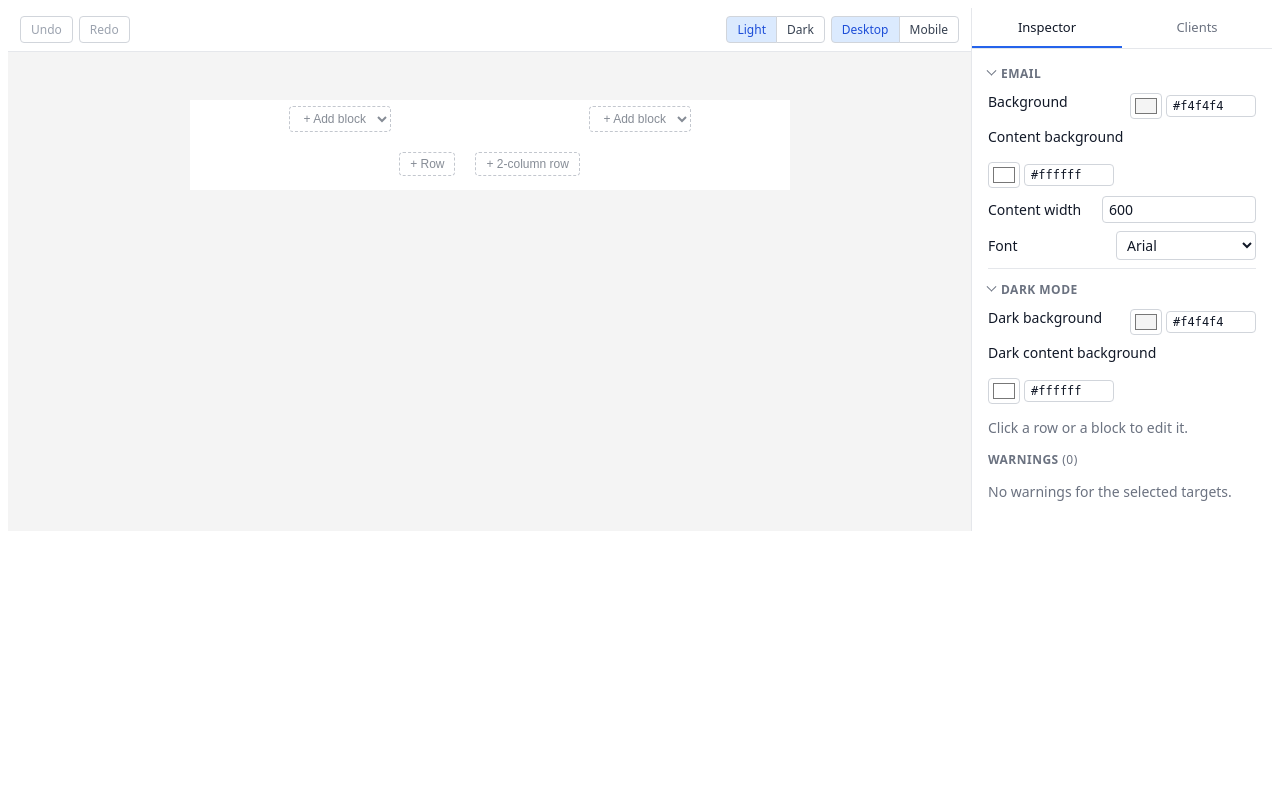
Test: <MailBlocks /> more columns › sets a column width and takes the difference from its neighbour
Step 1. Click the element with class "mb-row" → (490, 119), box [288,106,690,132]
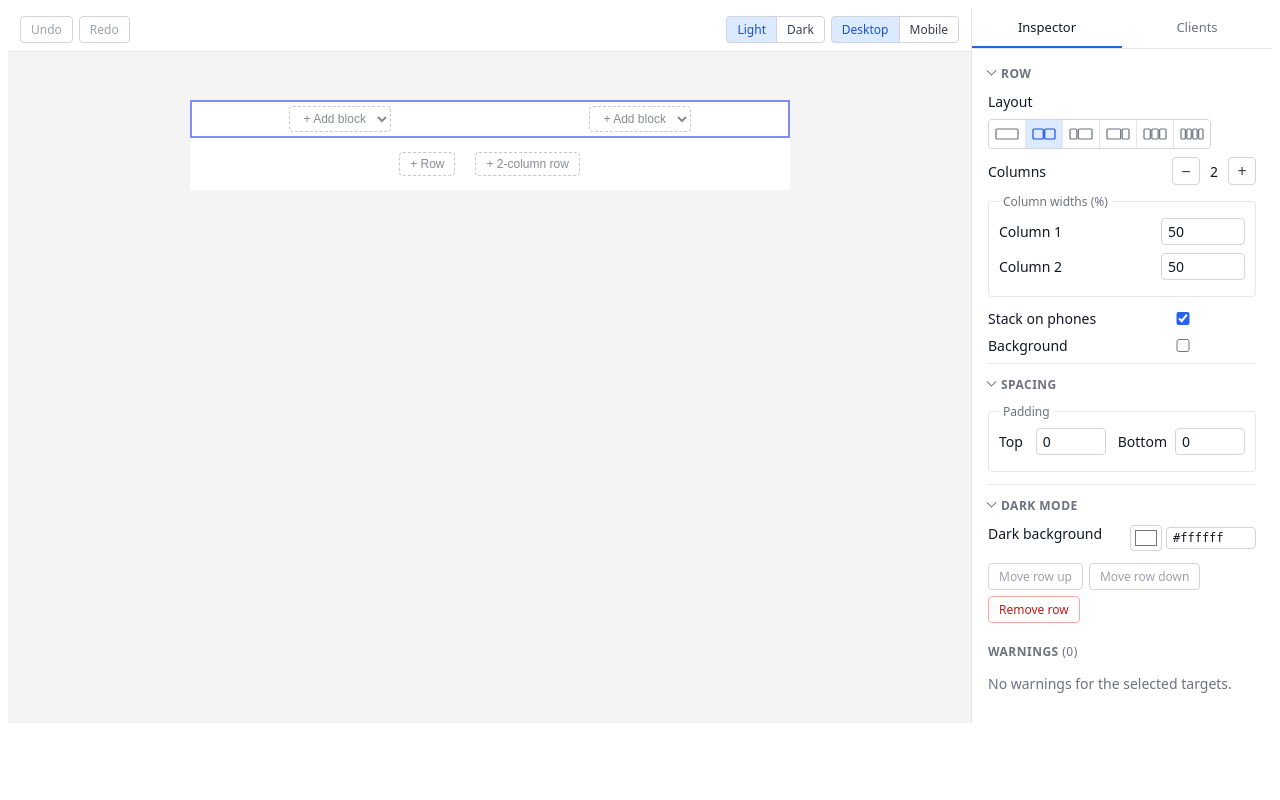
Step 2. Replace the text in the number field labelled "Column 1" with "70" → (1203, 232), box [1161,218,1245,245]
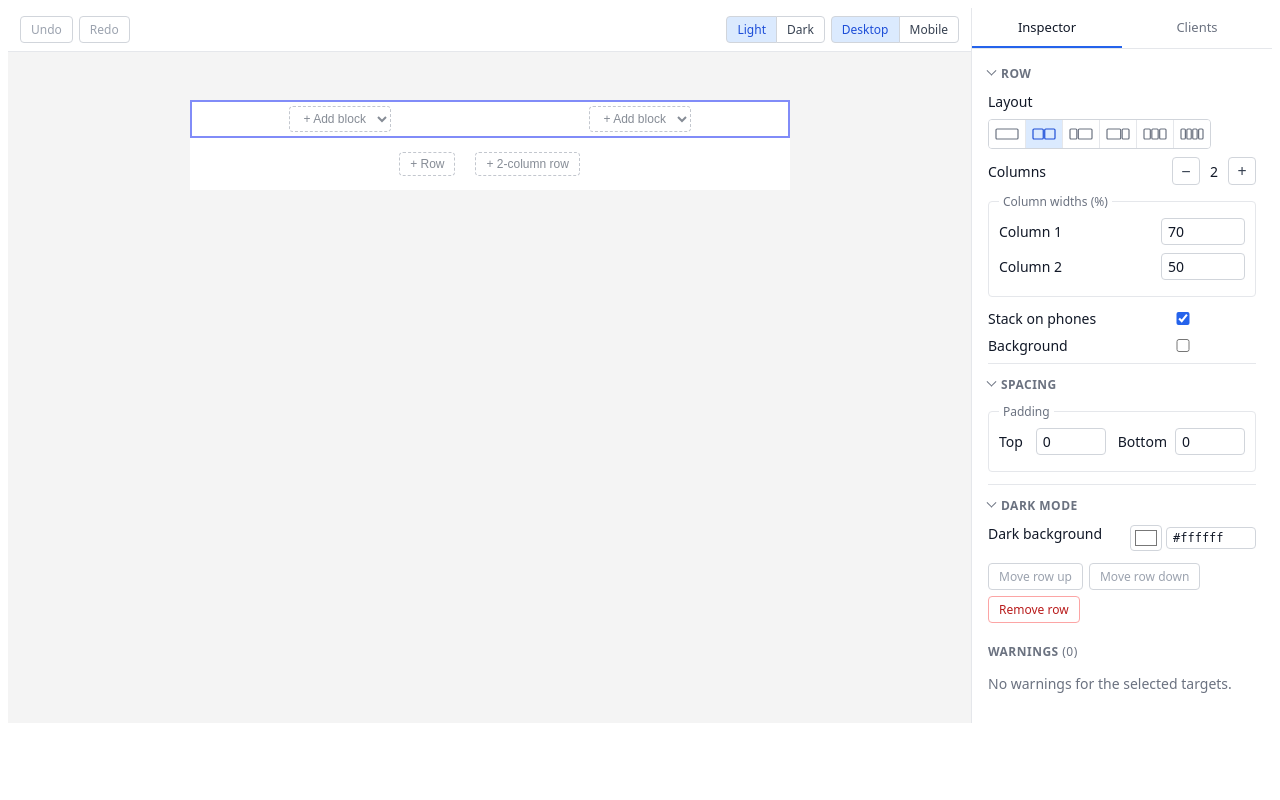
Step 3. Leave the number field labelled "Column 1", box [1161,218,1245,245]
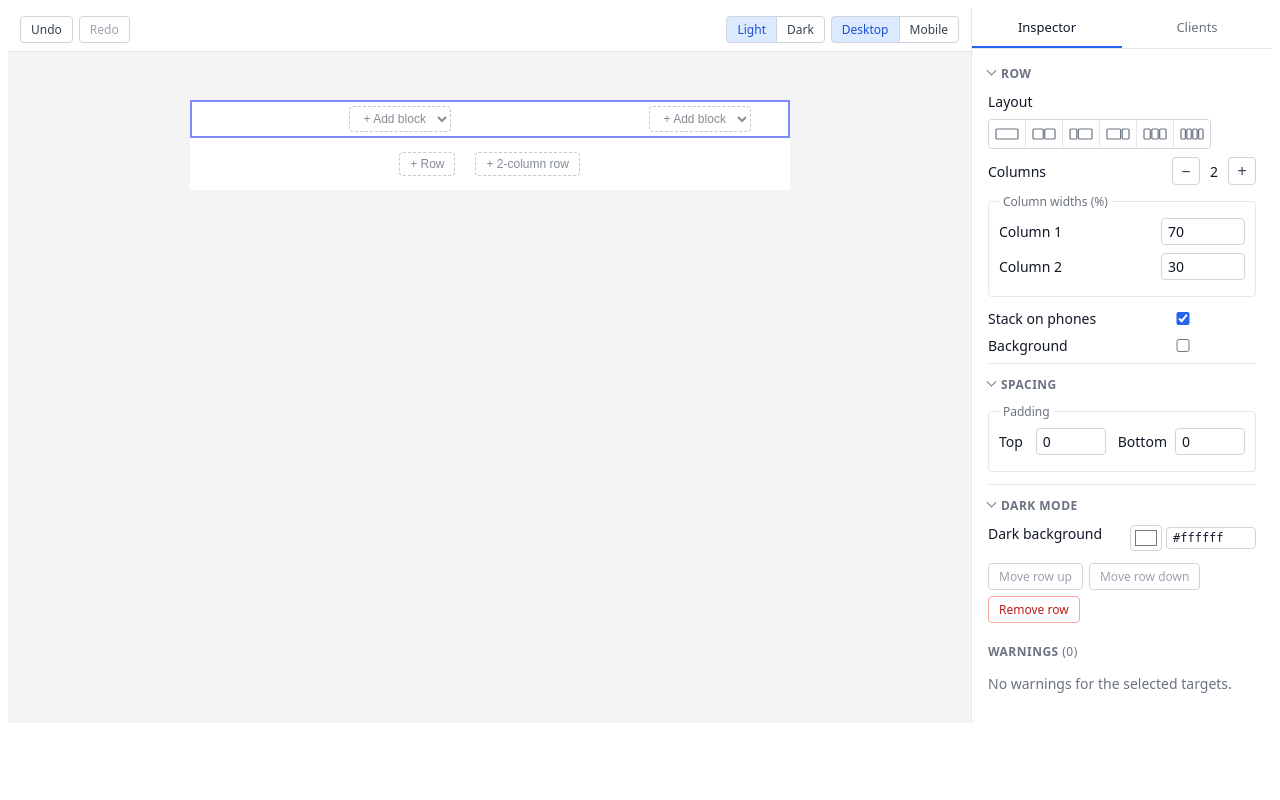
Check: the number field labelled "Column 2" holds "30", box [1161,253,1245,280]
